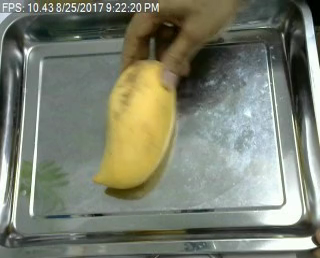Mango: (92, 59, 176, 188)
